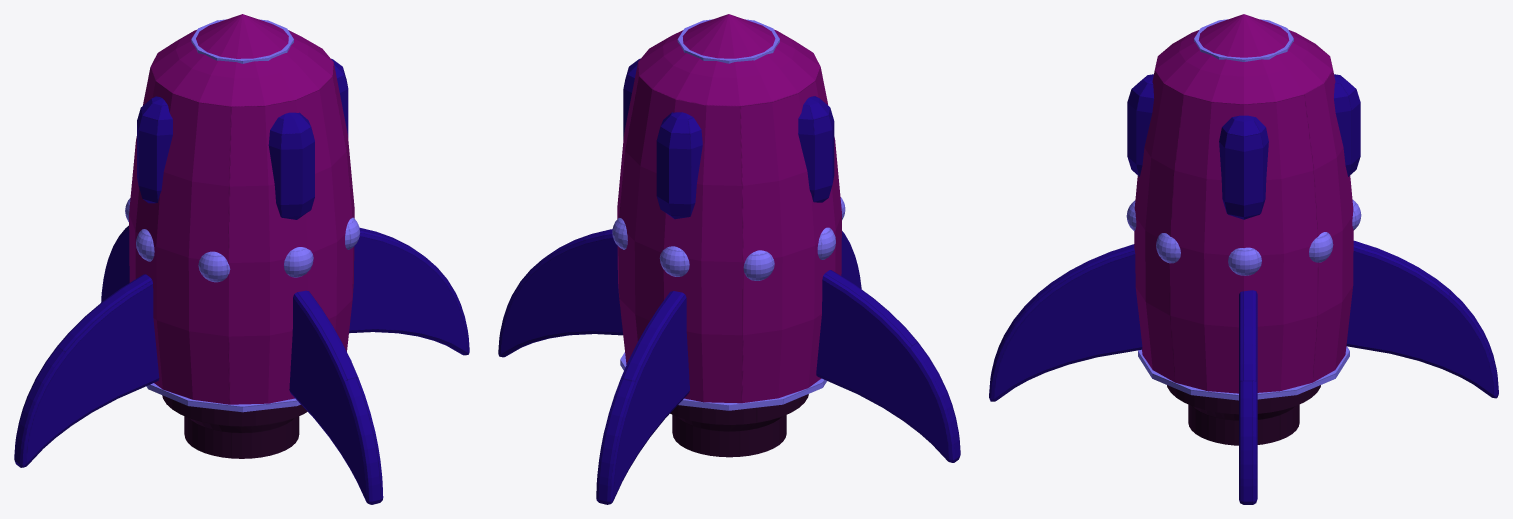
3 renders of one model, left to right at view 1: azimuth 30°, elevation 25°; view 2: azimuth 150°, elevation 25°; view 3: azimuth 270°, elevation 25°, orthographic. The views are drawn at different scales.
Parts seen in each view (by area): view 1: Node; view 2: Node; view 3: Node.
Boxes of the visible parts, left/top/right/bottom form: Node: left=14, top=14, right=469, bottom=504; Node: left=498, top=14, right=960, bottom=504; Node: left=989, top=14, right=1498, bottom=504.
Bounding box in the file's own units: 109 × 96.45 × 109.
1 material, 1 textured.
